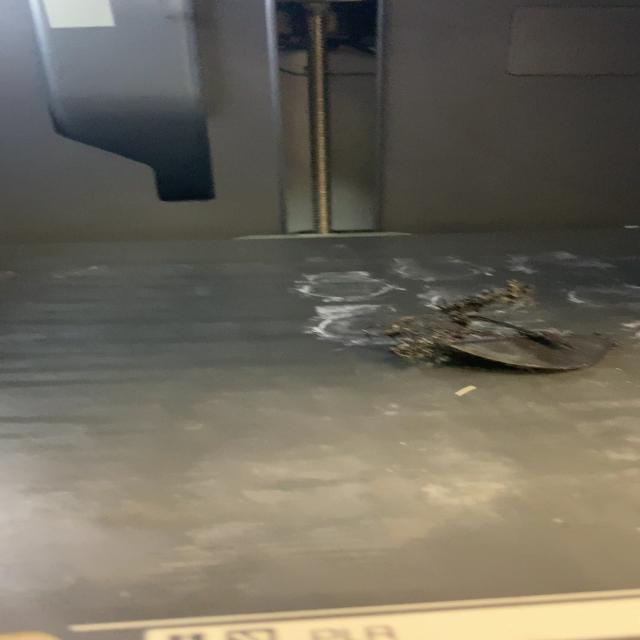spaghetti: (289, 253, 620, 379)
